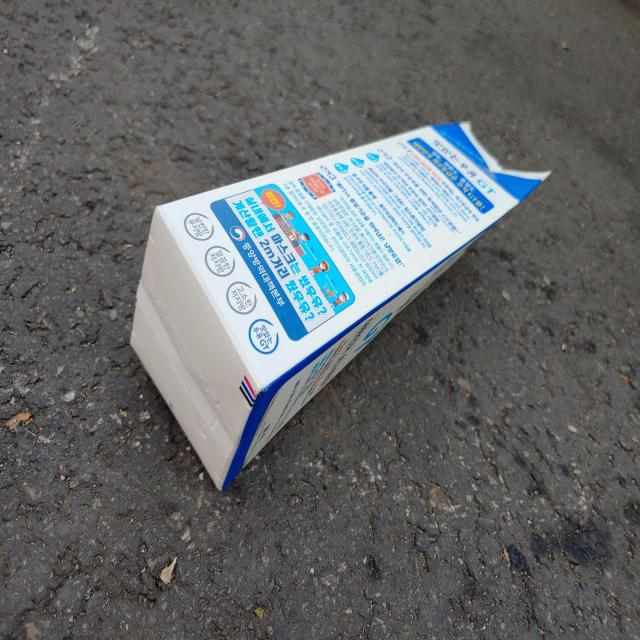paperpack: (130, 121, 550, 489)
